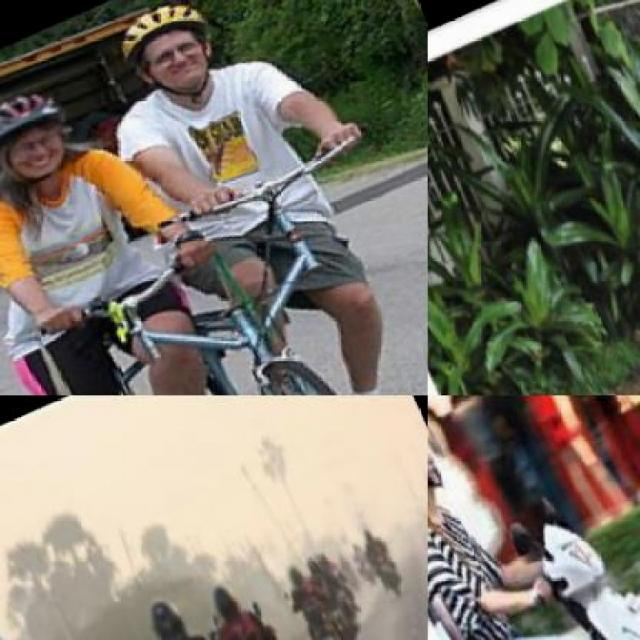With Helmet: (103, 0, 232, 112), (0, 78, 85, 197), (131, 577, 198, 638), (198, 565, 251, 633), (428, 395, 455, 511), (277, 552, 309, 590)
